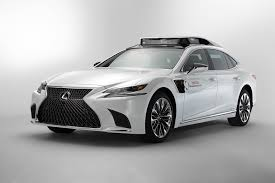car: (23, 27, 264, 149)
